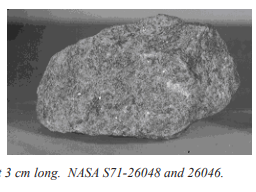Basalt: (35, 8, 240, 147)
